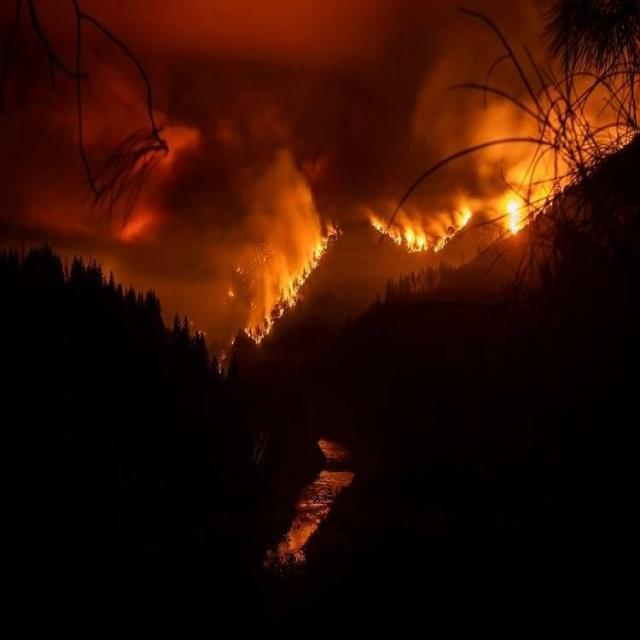Fire: (217, 220, 344, 374), (369, 205, 474, 253), (496, 166, 554, 236)
Smoke: (382, 1, 640, 238), (100, 144, 322, 336)
